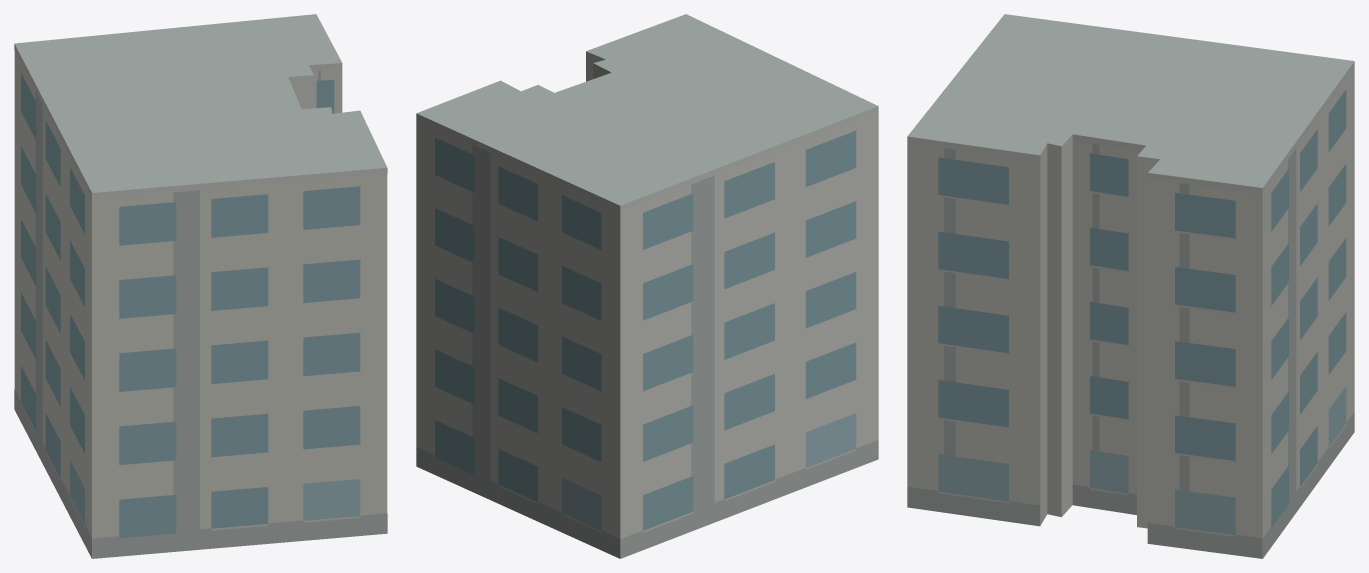
Rendered from survey-upis-32920682.glb.
3 renders of one model, left to right at view 1: azimuth 30°, elevation 25°; view 2: azimuth 150°, elevation 25°; view 3: azimuth 270°, elevation 25°, orthographic. The views are drawn at different scales.
Visible parts, largest first — view 1: survey-upis-32920682.tmp; view 2: survey-upis-32920682.tmp; view 3: survey-upis-32920682.tmp.
Part boxes in pixels (bbox=[...]): survey-upis-32920682.tmp: bbox=[14, 14, 387, 558]; survey-upis-32920682.tmp: bbox=[416, 14, 878, 558]; survey-upis-32920682.tmp: bbox=[907, 14, 1354, 558].
Size of the model in its own units: 14.29 by 14.2 by 15.53.
